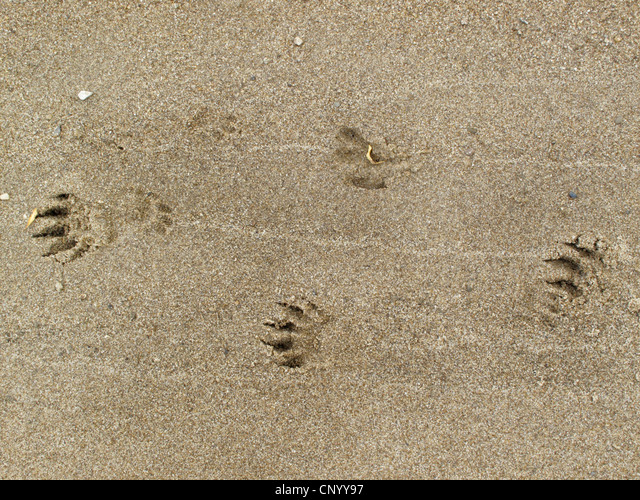beaver: (26, 190, 143, 266), (264, 300, 343, 379)
